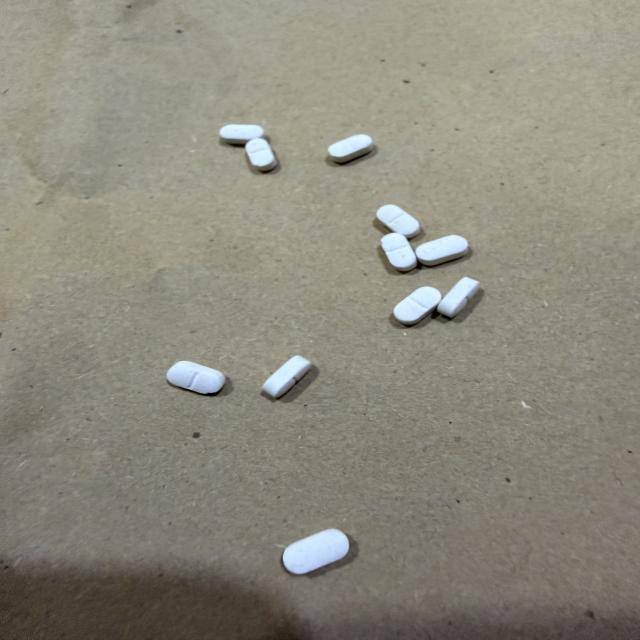pill: (283, 529, 349, 574), (262, 356, 311, 398), (167, 361, 225, 393), (394, 287, 441, 324), (438, 277, 479, 317), (416, 235, 468, 265), (377, 205, 419, 238), (381, 233, 416, 271), (328, 134, 372, 163), (245, 138, 277, 171), (220, 125, 263, 144)
